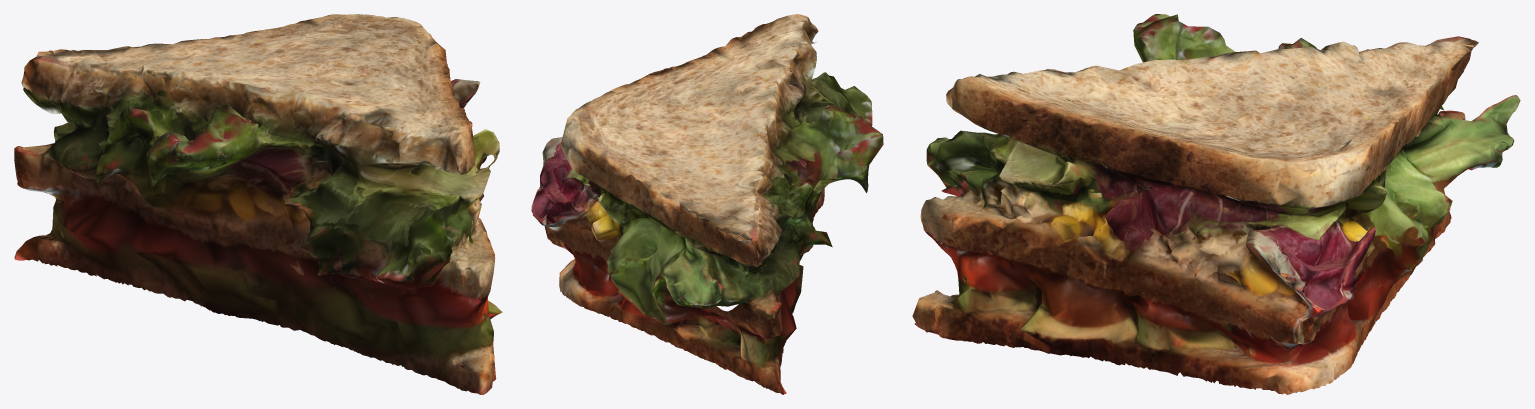
Rendered from sandwitch10k.obj.
3 views of the same model, side by side, from view 1: azimuth 30°, elevation 25°; view 2: azimuth 150°, elevation 25°; view 3: azimuth 270°, elevation 25° (orthographic). The views are drawn at different scales.
Visible parts, largest first — view 1: poly10k; view 2: poly10k; view 3: poly10k.
Boxes of the visible parts, x1,y1,x2,y2 form: poly10k: [14, 14, 502, 394]; poly10k: [531, 14, 883, 394]; poly10k: [912, 14, 1520, 394].
Bounding box in the file's own units: 22.57 × 13.75 × 30.18.
Materials: 5 (4 with a texture image).
